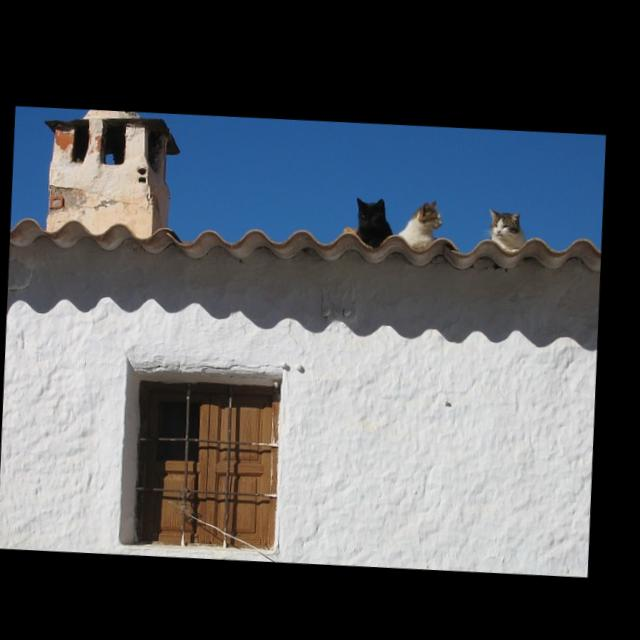animals: (403, 193, 446, 245), (357, 192, 394, 247), (490, 204, 529, 244)
